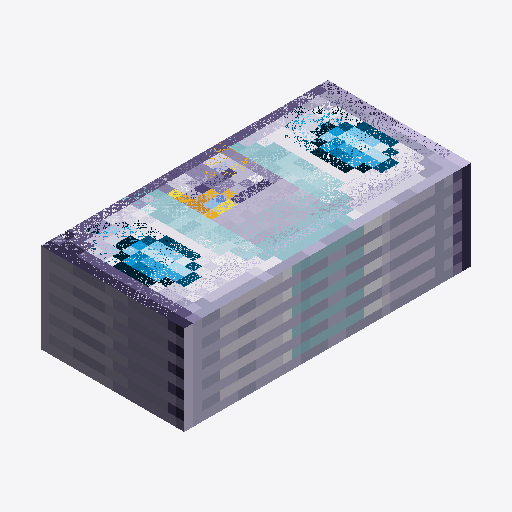
Isometric view (azimuth 45°, elevation 35.3°) of a Minecraft model made of 22 cuboids, textured from the same repository.
Parts seen in each view (by area): element 22, element 6, element 14, element 18, element 2, element 10, element 5, element 13, element 9, element 21, element 17.
Part boxes in pixels (x1,y1,x2,y2): element 22: (41, 80, 470, 327); element 6: (184, 225, 470, 410); element 14: (184, 184, 470, 369); element 18: (184, 163, 470, 348); element 2: (184, 246, 470, 431); element 10: (184, 205, 470, 389); element 5: (41, 329, 183, 431); element 13: (41, 287, 183, 389); element 9: (41, 308, 183, 410); element 21: (41, 246, 183, 348); element 17: (41, 267, 183, 368).
Bounding box in the file's own units: 16 × 5 × 8.